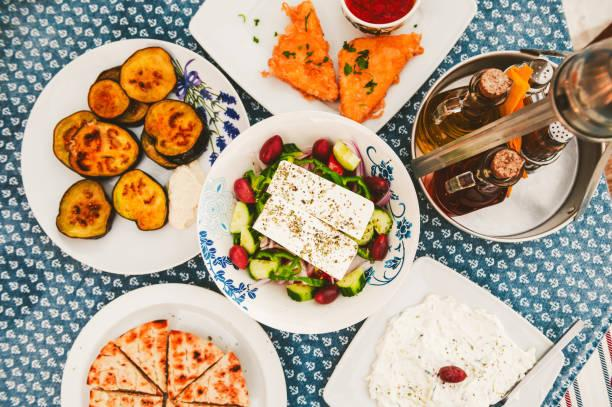Braised Crucian Carp: (21, 37, 246, 274), (198, 110, 419, 332), (191, 0, 475, 134), (56, 281, 286, 407)
